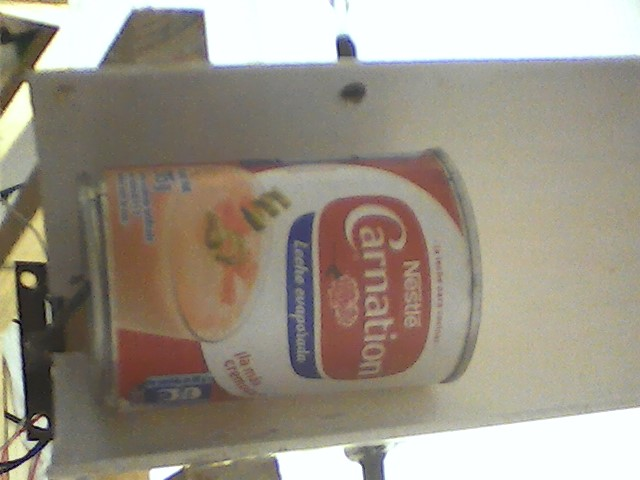lata: (67, 145, 493, 413)
